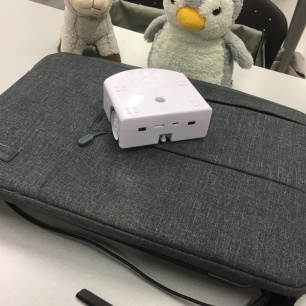thymio: (93, 68, 217, 152)
